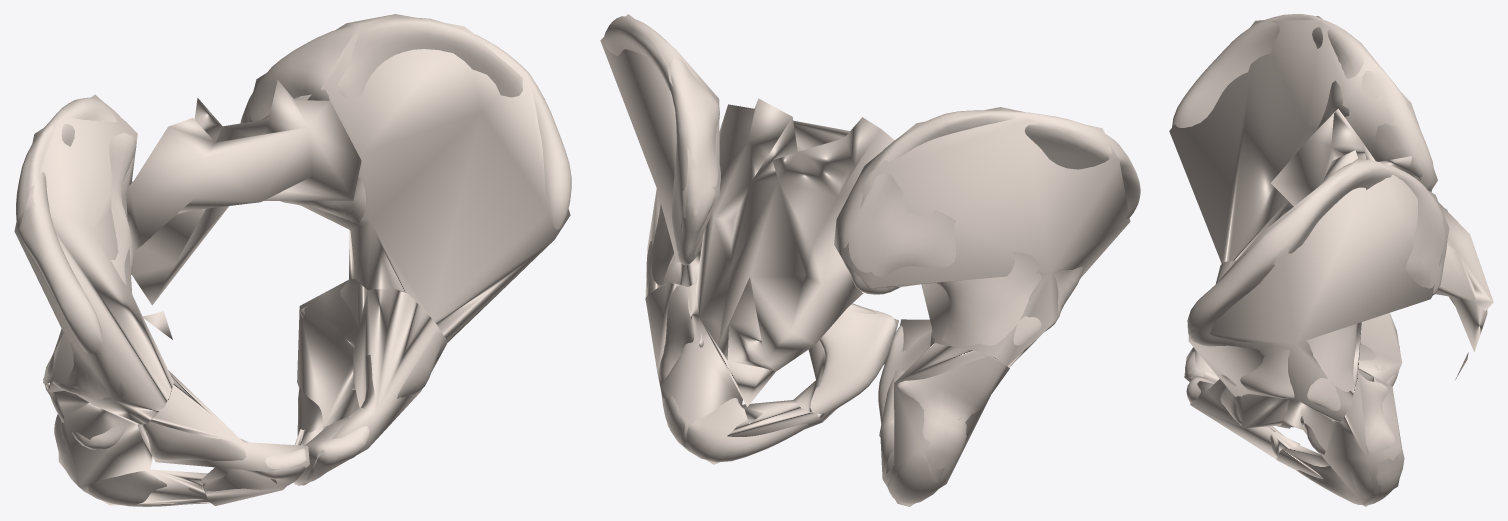
Rendered from hra-pelvis.glb.
3 renders of one model, left to right at view 1: azimuth 30°, elevation 25°; view 2: azimuth 150°, elevation 25°; view 3: azimuth 270°, elevation 25°, orthographic. The views are drawn at different scales.
Parts seen in each view (by area): view 1: VH_M_sacrum; view 2: VH_M_sacrum; view 3: VH_M_sacrum.
Part boxes in pixels (x1,y1,x2,y2): VH_M_sacrum: (14,14,571,506); VH_M_sacrum: (600,14,1140,506); VH_M_sacrum: (1169,14,1493,506).
Bounding box in the file's own units: 0.2819 × 0.2174 × 0.1715.
